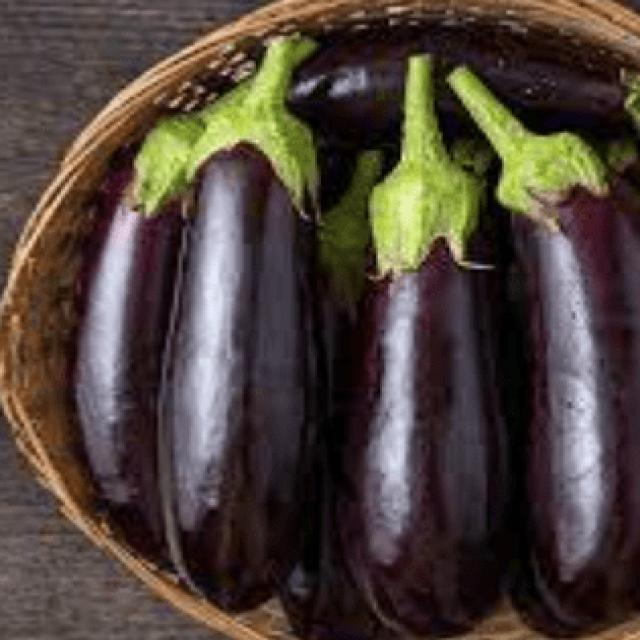eggplant: (51, 41, 640, 640)
